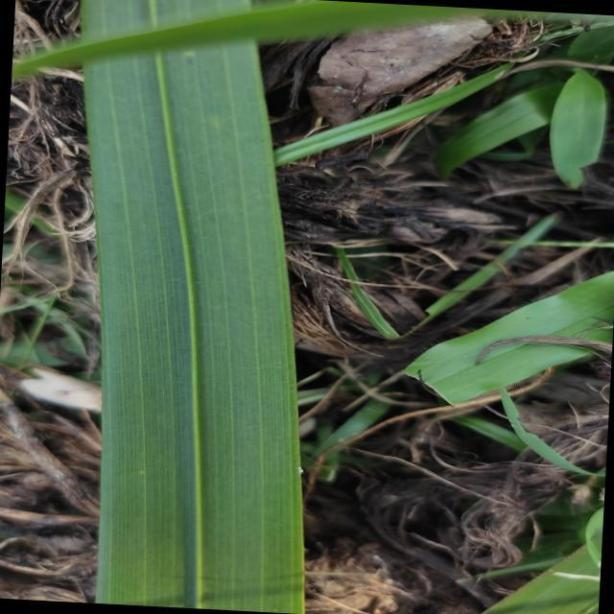Healthy: (88, 0, 309, 614)
